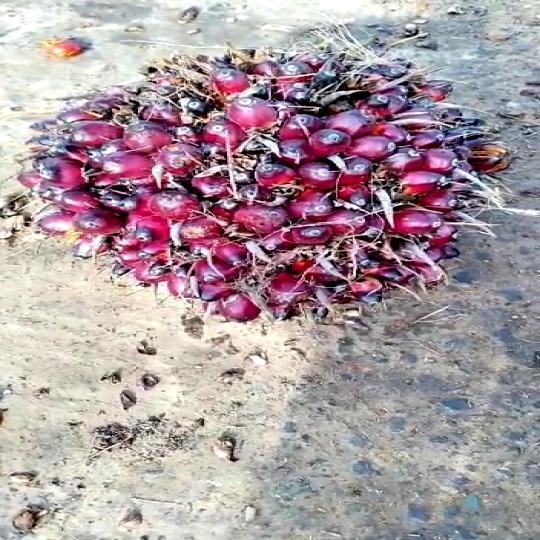masak: (18, 46, 505, 324)
